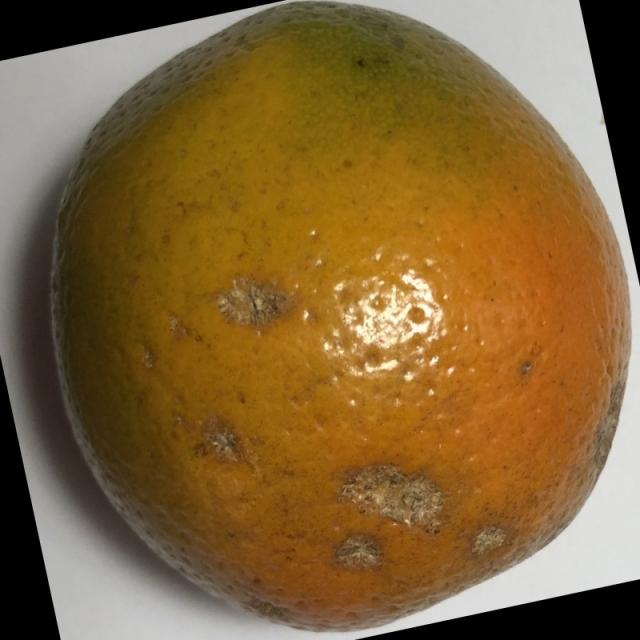canker: (36, 4, 637, 640)
